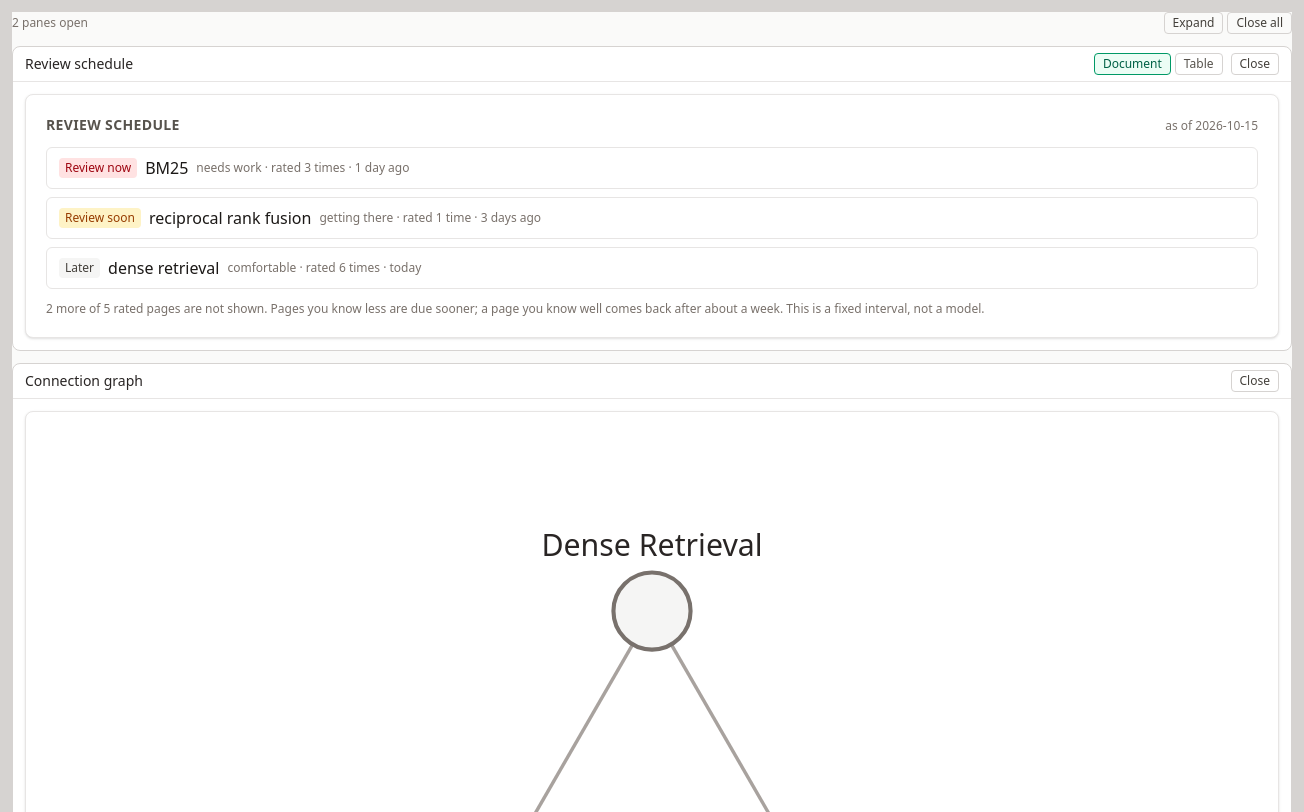
Scenario: Panes › a block with tabular facts has a Table view, sortable and filterable, and one without has none
Click the button "Table".
click(1199, 64)  # box [1175,53,1222,75]
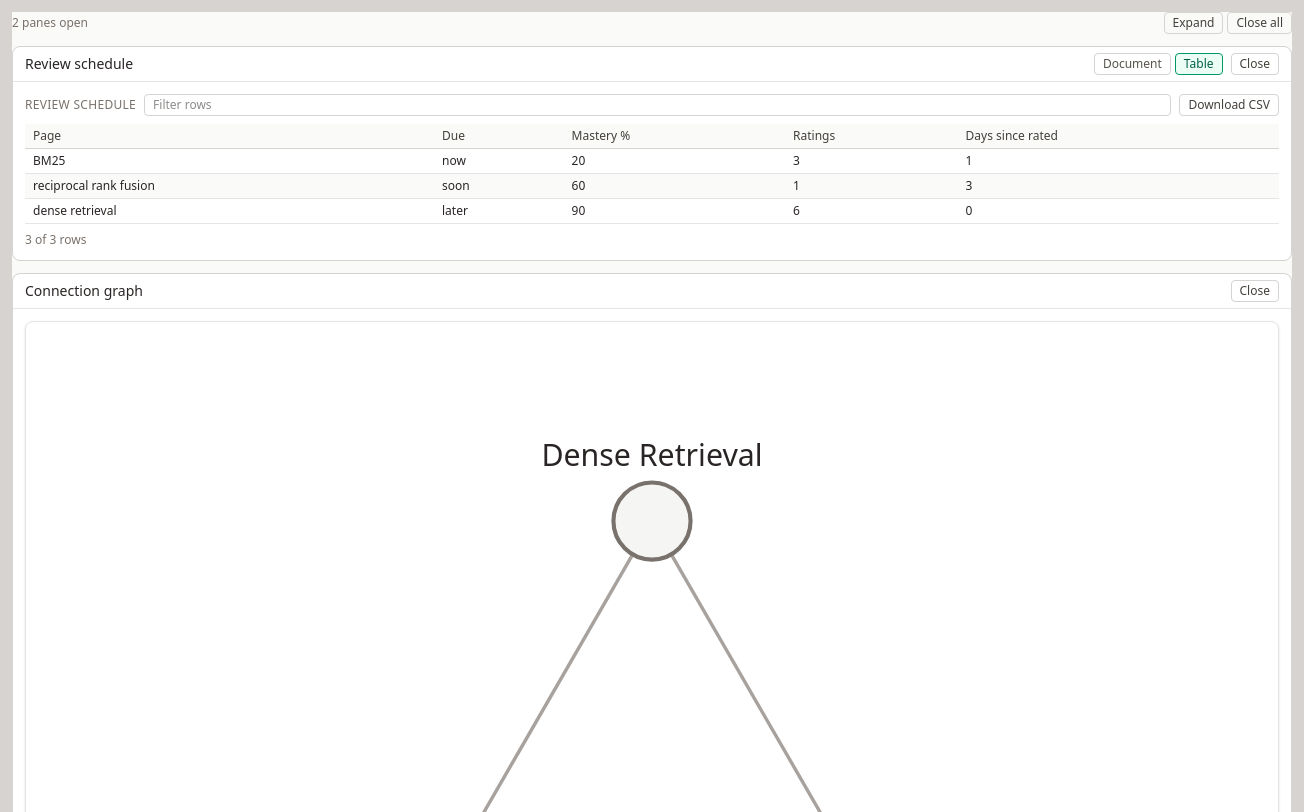
Click the button "Mastery %".
click(601, 136)  # box [572,128,630,144]
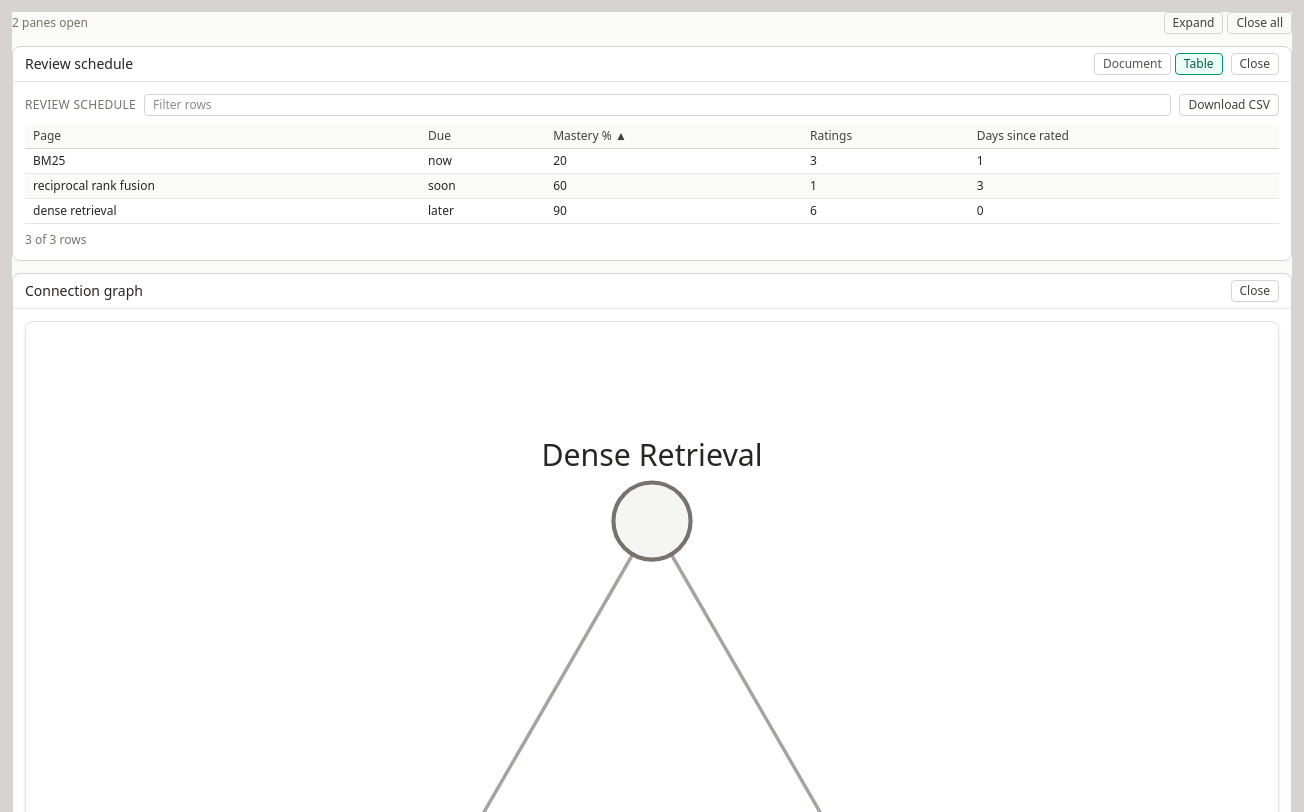
Click the button "Mastery % ▲".
click(590, 136)  # box [553,128,627,144]
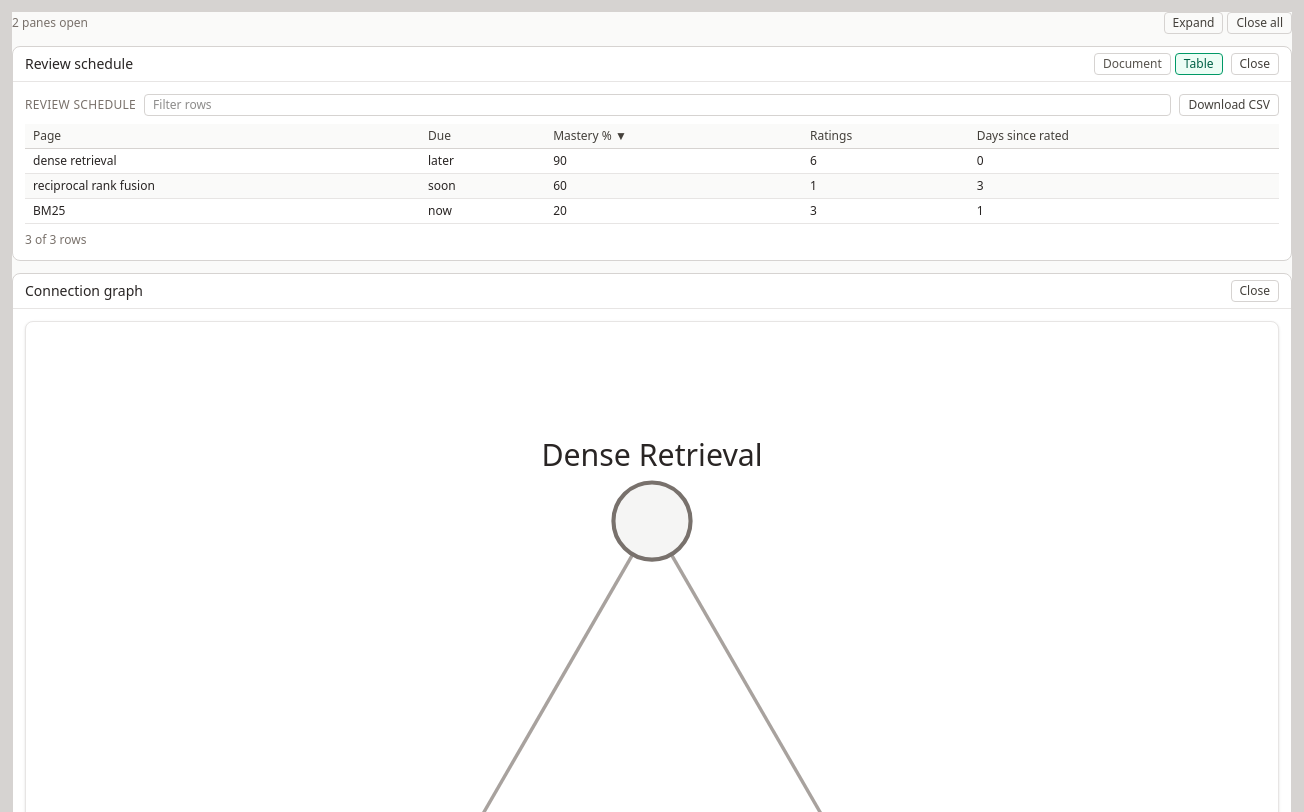
expect the column heading "Mastery % ▼" has attribute aria-sort="descending": met, box [545,124,802,148]
Type "fusion" into the field named "Filter Review schedule".
click(658, 105); type("fusion")  # box [144,94,1171,116]
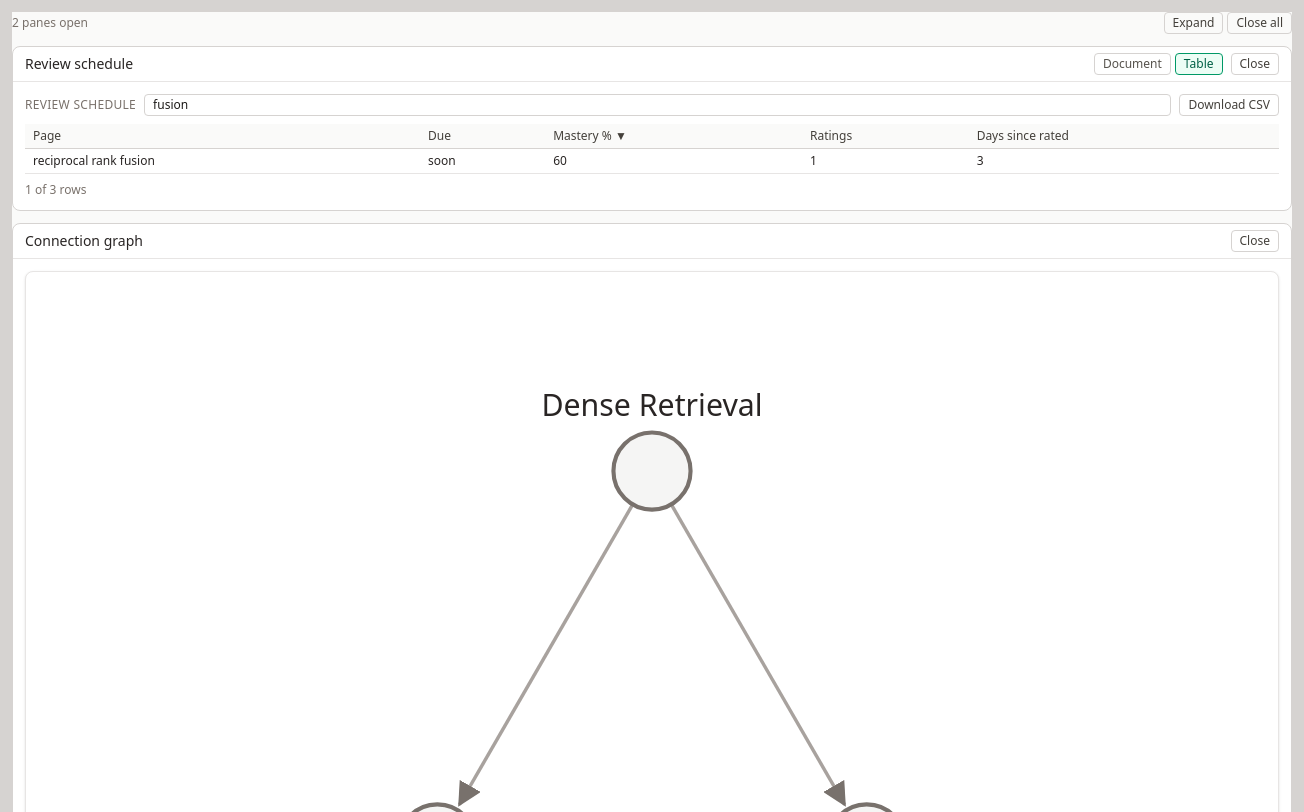
expect the message "1 of 3 rows" is shown: met, box [25,181,86,198]
